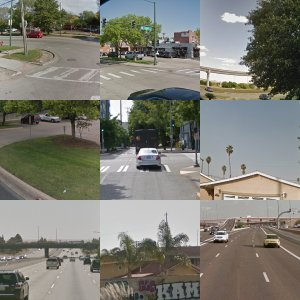汽車: (8, 209, 42, 238), (244, 136, 265, 155), (156, 30, 176, 45)
腳踏車: (100, 125, 148, 160), (23, 127, 49, 173)
自行車: (16, 232, 65, 256)
